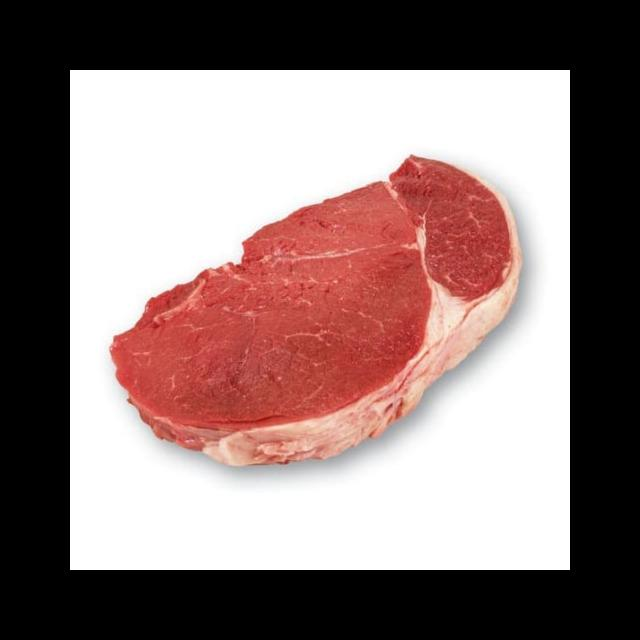beef: (105, 145, 545, 484)
